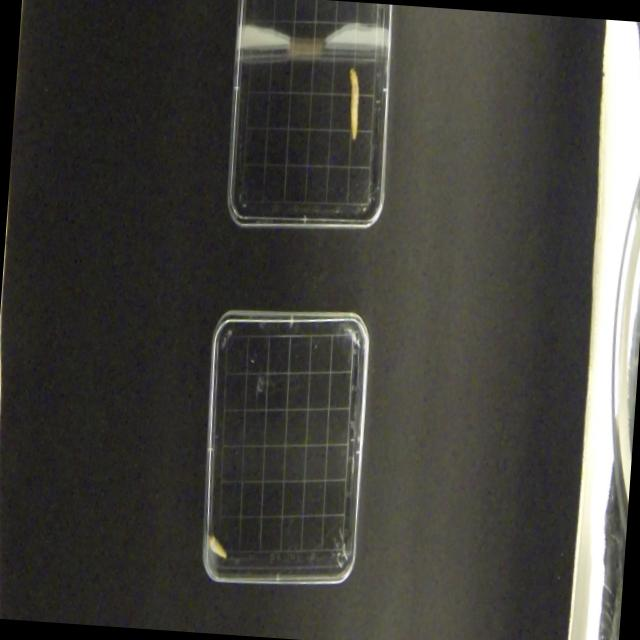larva: (341, 64, 364, 144), (207, 530, 230, 562)
